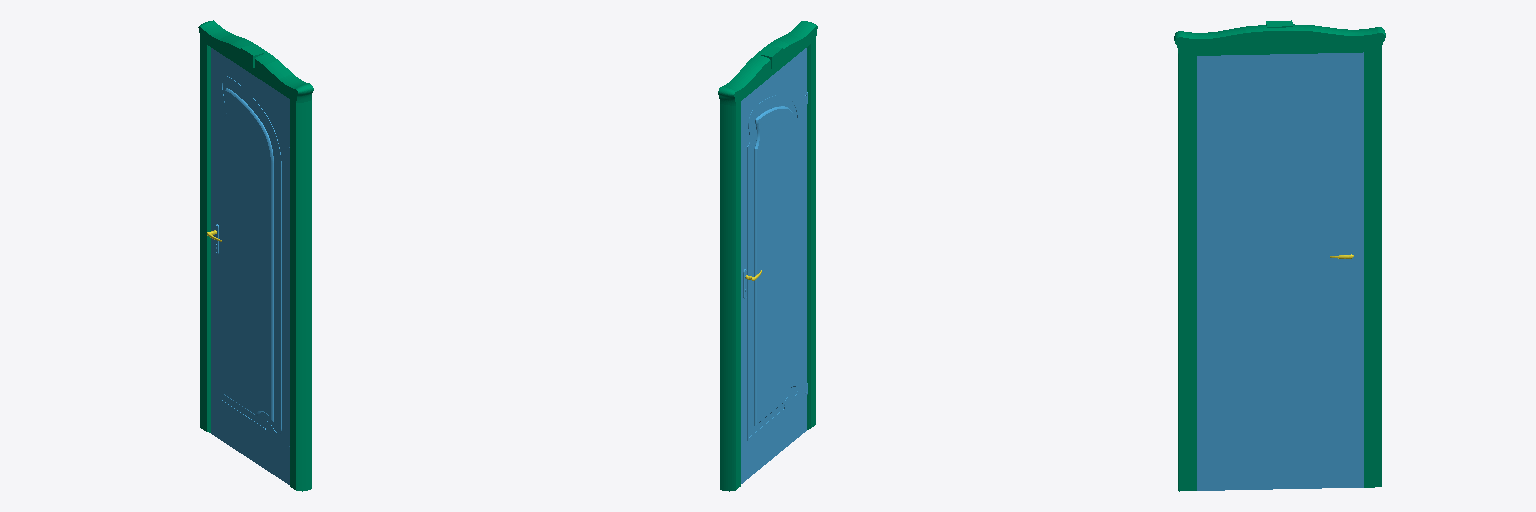
The robot description file, URDF, robot "partnet_cbd46097a3be604ce3f7a74e12a274ef":
<?xml version="1.0" ?>
<robot name="partnet_cbd46097a3be604ce3f7a74e12a274ef">
	<link name="base"/>
	<link name="link_0">
		<visual name="hinge-12">
			<origin xyz="-0.30969845503568644 0 0.024119412004947646"/>
			<geometry>
				<mesh filename="textured_objs/original-45.obj" scale="1.4 1.4 1.4"/>
			</geometry>
		</visual>
		<visual name="hinge-12">
			<origin xyz="-0.30969845503568644 0 0.024119412004947646"/>
			<geometry>
				<mesh filename="textured_objs/original-48.obj" scale="1.4 1.4 1.4"/>
			</geometry>
		</visual>
		<visual name="hinge-12">
			<origin xyz="-0.30969845503568644 0 0.024119412004947646"/>
			<geometry>
				<mesh filename="textured_objs/original-46.obj" scale="1.4 1.4 1.4"/>
			</geometry>
		</visual>
		<visual name="hinge-13">
			<origin xyz="-0.30969845503568644 0 0.024119412004947646"/>
			<geometry>
				<mesh filename="textured_objs/original-43.obj" scale="1.4 1.4 1.4"/>
			</geometry>
		</visual>
		<visual name="hinge-13">
			<origin xyz="-0.30969845503568644 0 0.024119412004947646"/>
			<geometry>
				<mesh filename="textured_objs/original-42.obj" scale="1.4 1.4 1.4"/>
			</geometry>
		</visual>
		<visual name="hinge-13">
			<origin xyz="-0.30969845503568644 0 0.024119412004947646"/>
			<geometry>
				<mesh filename="textured_objs/original-41.obj" scale="1.4 1.4 1.4"/>
			</geometry>
		</visual>
		<visual name="hinge-13">
			<origin xyz="-0.30969845503568644 0 0.024119412004947646"/>
			<geometry>
				<mesh filename="textured_objs/original-38.obj" scale="1.4 1.4 1.4"/>
			</geometry>
		</visual>
		<visual name="hinge-13">
			<origin xyz="-0.30969845503568644 0 0.024119412004947646"/>
			<geometry>
				<mesh filename="textured_objs/original-39.obj" scale="1.4 1.4 1.4"/>
			</geometry>
		</visual>
		<visual name="surface_board-7">
			<origin xyz="-0.30969845503568644 0 0.024119412004947646"/>
			<geometry>
				<mesh filename="textured_objs/original-8.obj" scale="1.4 1.4 1.4"/>
			</geometry>
		</visual>
		<visual name="surface_board-7">
			<origin xyz="-0.30969845503568644 0 0.024119412004947646"/>
			<geometry>
				<mesh filename="textured_objs/original-9.obj" scale="1.4 1.4 1.4"/>
			</geometry>
		</visual>
		<visual name="surface_board-7">
			<origin xyz="-0.30969845503568644 0 0.024119412004947646"/>
			<geometry>
				<mesh filename="textured_objs/original-5.obj" scale="1.4 1.4 1.4"/>
			</geometry>
		</visual>
		<visual name="glass-8">
			<origin xyz="-0.30969845503568644 0 0.024119412004947646"/>
			<geometry>
				<mesh filename="textured_objs/original-6.obj" scale="1.4 1.4 1.4"/>
			</geometry>
		</visual>
		<visual name="fixed_part-5">
			<origin xyz="-0.30969845503568644 0 0.024119412004947646"/>
			<geometry>
				<mesh filename="textured_objs/original-24.obj" scale="1.4 1.4 1.4"/>
			</geometry>
		</visual>
		<visual name="fixed_part-5">
			<origin xyz="-0.30969845503568644 0 0.024119412004947646"/>
			<geometry>
				<mesh filename="textured_objs/original-13.obj" scale="1.4 1.4 1.4"/>
			</geometry>
		</visual>
		<visual name="fixed_part-5">
			<origin xyz="-0.30969845503568644 0 0.024119412004947646"/>
			<geometry>
				<mesh filename="textured_objs/original-14.obj" scale="1.4 1.4 1.4"/>
			</geometry>
		</visual>
		<visual name="fixed_part-5">
			<origin xyz="-0.30969845503568644 0 0.024119412004947646"/>
			<geometry>
				<mesh filename="textured_objs/original-11.obj" scale="1.4 1.4 1.4"/>
			</geometry>
		</visual>
		<visual name="fixed_part-5">
			<origin xyz="-0.30969845503568644 0 0.024119412004947646"/>
			<geometry>
				<mesh filename="textured_objs/original-26.obj" scale="1.4 1.4 1.4"/>
			</geometry>
		</visual>
		<visual name="fixed_part-5">
			<origin xyz="-0.30969845503568644 0 0.024119412004947646"/>
			<geometry>
				<mesh filename="textured_objs/original-22.obj" scale="1.4 1.4 1.4"/>
			</geometry>
		</visual>
		<visual name="fixed_part-5">
			<origin xyz="-0.30969845503568644 0 0.024119412004947646"/>
			<geometry>
				<mesh filename="textured_objs/original-12.obj" scale="1.4 1.4 1.4"/>
			</geometry>
		</visual>
		<visual name="fixed_part-5">
			<origin xyz="-0.30969845503568644 0 0.024119412004947646"/>
			<geometry>
				<mesh filename="textured_objs/original-21.obj" scale="1.4 1.4 1.4"/>
			</geometry>
		</visual>
		<visual name="fixed_part-10">
			<origin xyz="-0.30969845503568644 0 0.024119412004947646"/>
			<geometry>
				<mesh filename="textured_objs/original-15.obj" scale="1.4 1.4 1.4"/>
			</geometry>
		</visual>
		<visual name="fixed_part-10">
			<origin xyz="-0.30969845503568644 0 0.024119412004947646"/>
			<geometry>
				<mesh filename="textured_objs/original-18.obj" scale="1.4 1.4 1.4"/>
			</geometry>
		</visual>
		<visual name="fixed_part-10">
			<origin xyz="-0.30969845503568644 0 0.024119412004947646"/>
			<geometry>
				<mesh filename="textured_objs/original-17.obj" scale="1.4 1.4 1.4"/>
			</geometry>
		</visual>
		<visual name="fixed_part-10">
			<origin xyz="-0.30969845503568644 0 0.024119412004947646"/>
			<geometry>
				<mesh filename="textured_objs/original-16.obj" scale="1.4 1.4 1.4"/>
			</geometry>
		</visual>
		<visual name="fixed_part-10">
			<origin xyz="-0.30969845503568644 0 0.024119412004947646"/>
			<geometry>
				<mesh filename="textured_objs/original-35.obj" scale="1.4 1.4 1.4"/>
			</geometry>
		</visual>
		<visual name="fixed_part-10">
			<origin xyz="-0.30969845503568644 0 0.024119412004947646"/>
			<geometry>
				<mesh filename="textured_objs/original-31.obj" scale="1.4 1.4 1.4"/>
			</geometry>
		</visual>
		<visual name="fixed_part-10">
			<origin xyz="-0.30969845503568644 0 0.024119412004947646"/>
			<geometry>
				<mesh filename="textured_objs/original-33.obj" scale="1.4 1.4 1.4"/>
			</geometry>
		</visual>
		<visual name="fixed_part-10">
			<origin xyz="-0.30969845503568644 0 0.024119412004947646"/>
			<geometry>
				<mesh filename="textured_objs/original-30.obj" scale="1.4 1.4 1.4"/>
			</geometry>
		</visual>
		<collision>
			<origin xyz="-0.30969845503568644 0 0.024119412004947646"/>
			<geometry>
				<mesh filename="textured_objs/original-45.obj" scale="1.4 1.4 1.4"/>
			</geometry>
		</collision>
		<collision>
			<origin xyz="-0.30969845503568644 0 0.024119412004947646"/>
			<geometry>
				<mesh filename="textured_objs/original-48.obj" scale="1.4 1.4 1.4"/>
			</geometry>
		</collision>
		<collision>
			<origin xyz="-0.30969845503568644 0 0.024119412004947646"/>
			<geometry>
				<mesh filename="textured_objs/original-46.obj" scale="1.4 1.4 1.4"/>
			</geometry>
		</collision>
		<collision>
			<origin xyz="-0.30969845503568644 0 0.024119412004947646"/>
			<geometry>
				<mesh filename="textured_objs/original-43.obj" scale="1.4 1.4 1.4"/>
			</geometry>
		</collision>
		<collision>
			<origin xyz="-0.30969845503568644 0 0.024119412004947646"/>
			<geometry>
				<mesh filename="textured_objs/original-42.obj" scale="1.4 1.4 1.4"/>
			</geometry>
		</collision>
		<collision>
			<origin xyz="-0.30969845503568644 0 0.024119412004947646"/>
			<geometry>
				<mesh filename="textured_objs/original-41.obj" scale="1.4 1.4 1.4"/>
			</geometry>
		</collision>
		<collision>
			<origin xyz="-0.30969845503568644 0 0.024119412004947646"/>
			<geometry>
				<mesh filename="textured_objs/original-38.obj" scale="1.4 1.4 1.4"/>
			</geometry>
		</collision>
		<collision>
			<origin xyz="-0.30969845503568644 0 0.024119412004947646"/>
			<geometry>
				<mesh filename="textured_objs/original-39.obj" scale="1.4 1.4 1.4"/>
			</geometry>
		</collision>
		<collision>
			<origin xyz="-0.30969845503568644 0 0.024119412004947646"/>
			<geometry>
				<mesh filename="textured_objs/original-8.obj" scale="1.4 1.4 1.4"/>
			</geometry>
		</collision>
		<collision>
			<origin xyz="-0.30969845503568644 0 0.024119412004947646"/>
			<geometry>
				<mesh filename="textured_objs/original-9.obj" scale="1.4 1.4 1.4"/>
			</geometry>
		</collision>
		<collision>
			<origin xyz="-0.30969845503568644 0 0.024119412004947646"/>
			<geometry>
				<mesh filename="textured_objs/original-5.obj" scale="1.4 1.4 1.4"/>
			</geometry>
		</collision>
		<collision>
			<origin xyz="-0.30969845503568644 0 0.024119412004947646"/>
			<geometry>
				<mesh filename="textured_objs/original-6.obj" scale="1.4 1.4 1.4"/>
			</geometry>
		</collision>
		<collision>
			<origin xyz="-0.30969845503568644 0 0.024119412004947646"/>
			<geometry>
				<mesh filename="textured_objs/original-24.obj" scale="1.4 1.4 1.4"/>
			</geometry>
		</collision>
		<collision>
			<origin xyz="-0.30969845503568644 0 0.024119412004947646"/>
			<geometry>
				<mesh filename="textured_objs/original-13.obj" scale="1.4 1.4 1.4"/>
			</geometry>
		</collision>
		<collision>
			<origin xyz="-0.30969845503568644 0 0.024119412004947646"/>
			<geometry>
				<mesh filename="textured_objs/original-14.obj" scale="1.4 1.4 1.4"/>
			</geometry>
		</collision>
		<collision>
			<origin xyz="-0.30969845503568644 0 0.024119412004947646"/>
			<geometry>
				<mesh filename="textured_objs/original-11.obj" scale="1.4 1.4 1.4"/>
			</geometry>
		</collision>
		<collision>
			<origin xyz="-0.30969845503568644 0 0.024119412004947646"/>
			<geometry>
				<mesh filename="textured_objs/original-26.obj" scale="1.4 1.4 1.4"/>
			</geometry>
		</collision>
		<collision>
			<origin xyz="-0.30969845503568644 0 0.024119412004947646"/>
			<geometry>
				<mesh filename="textured_objs/original-22.obj" scale="1.4 1.4 1.4"/>
			</geometry>
		</collision>
		<collision>
			<origin xyz="-0.30969845503568644 0 0.024119412004947646"/>
			<geometry>
				<mesh filename="textured_objs/original-12.obj" scale="1.4 1.4 1.4"/>
			</geometry>
		</collision>
		<collision>
			<origin xyz="-0.30969845503568644 0 0.024119412004947646"/>
			<geometry>
				<mesh filename="textured_objs/original-21.obj" scale="1.4 1.4 1.4"/>
			</geometry>
		</collision>
		<collision>
			<origin xyz="-0.30969845503568644 0 0.024119412004947646"/>
			<geometry>
				<mesh filename="textured_objs/original-15.obj" scale="1.4 1.4 1.4"/>
			</geometry>
		</collision>
		<collision>
			<origin xyz="-0.30969845503568644 0 0.024119412004947646"/>
			<geometry>
				<mesh filename="textured_objs/original-18.obj" scale="1.4 1.4 1.4"/>
			</geometry>
		</collision>
		<collision>
			<origin xyz="-0.30969845503568644 0 0.024119412004947646"/>
			<geometry>
				<mesh filename="textured_objs/original-17.obj" scale="1.4 1.4 1.4"/>
			</geometry>
		</collision>
		<collision>
			<origin xyz="-0.30969845503568644 0 0.024119412004947646"/>
			<geometry>
				<mesh filename="textured_objs/original-16.obj" scale="1.4 1.4 1.4"/>
			</geometry>
		</collision>
		<collision>
			<origin xyz="-0.30969845503568644 0 0.024119412004947646"/>
			<geometry>
				<mesh filename="textured_objs/original-35.obj" scale="1.4 1.4 1.4"/>
			</geometry>
		</collision>
		<collision>
			<origin xyz="-0.30969845503568644 0 0.024119412004947646"/>
			<geometry>
				<mesh filename="textured_objs/original-31.obj" scale="1.4 1.4 1.4"/>
			</geometry>
		</collision>
		<collision>
			<origin xyz="-0.30969845503568644 0 0.024119412004947646"/>
			<geometry>
				<mesh filename="textured_objs/original-33.obj" scale="1.4 1.4 1.4"/>
			</geometry>
		</collision>
		<collision>
			<origin xyz="-0.30969845503568644 0 0.024119412004947646"/>
			<geometry>
				<mesh filename="textured_objs/original-30.obj" scale="1.4 1.4 1.4"/>
			</geometry>
		</collision>
	</link>
	<joint name="joint_0" type="fixed">
		<origin xyz="0.30969845503568644 0 -0.024119412004947646"/>
		<axis xyz="0 1 0"/>
		<child link="link_0"/>
		<parent link="link_1"/>
		<limit lower="0.0" upper="1.5707963267948966"/>
	</joint>
	<link name="link_1">
		<visual name="outside_frame-1">
			<origin xyz="0 0 0"/>
			<geometry>
				<mesh filename="textured_objs/original-4.obj" scale="1.4 1.4 1.4"/>
			</geometry>
		</visual>
		<visual name="other_leaf-15">
			<origin xyz="0 0 0"/>
			<geometry>
				<mesh filename="textured_objs/original-3.obj" scale="1.4 1.4 1.4"/>
			</geometry>
		</visual>
		<visual name="other_leaf-15">
			<origin xyz="0 0 0"/>
			<geometry>
				<mesh filename="textured_objs/original-2.obj" scale="1.4 1.4 1.4"/>
			</geometry>
		</visual>
		<collision>
			<origin xyz="0 0 0"/>
			<geometry>
				<mesh filename="textured_objs/original-4.obj" scale="1.4 1.4 1.4"/>
			</geometry>
		</collision>
		<collision>
			<origin xyz="0 0 0"/>
			<geometry>
				<mesh filename="textured_objs/original-3.obj" scale="1.4 1.4 1.4"/>
			</geometry>
		</collision>
		<collision>
			<origin xyz="0 0 0"/>
			<geometry>
				<mesh filename="textured_objs/original-2.obj" scale="1.4 1.4 1.4"/>
			</geometry>
		</collision>
	</link>
	<joint name="joint_1" type="fixed">
		<origin rpy="1.570796326794897 0 -1.570796326794897" xyz="0 0 0"/>
		<child link="link_1"/>
		<parent link="base"/>
	</joint>
	<link name="link_2">
		<visual name="movable_part-6">
			<origin xyz="0.27921457650139947 -0.008014151086460485 0"/>
			<geometry>
				<mesh filename="textured_objs/original-20.obj" scale="1.4 1.4 1.4"/>
			</geometry>
		</visual>
		<visual name="movable_part-11">
			<origin xyz="0.27921457650139947 -0.008014151086460485 0"/>
			<geometry>
				<mesh filename="textured_objs/original-29.obj" scale="1.4 1.4 1.4"/>
			</geometry>
		</visual>
		<collision>
			<origin xyz="0.27921457650139947 -0.008014151086460485 0"/>
			<geometry>
				<mesh filename="textured_objs/original-20.obj" scale="1.4 1.4 1.4"/>
			</geometry>
		</collision>
		<collision>
			<origin xyz="0.27921457650139947 -0.008014151086460485 0"/>
			<geometry>
				<mesh filename="textured_objs/original-29.obj" scale="1.4 1.4 1.4"/>
			</geometry>
		</collision>
	</link>
	<joint name="joint_2" type="fixed">
		<origin xyz="-0.5889130315370859 0.008014151086460485 0.024119412004947646"/>
		<axis xyz="0 0 -1"/>
		<child link="link_2"/>
		<parent link="link_0"/>
		<limit lower="-0.0" upper="1.5707963267948966"/>
	</joint>
</robot>

--- Facts derived from the render (not from the file) ---
Views: 3 orthographic renders of the robot side by side, from view 1: azimuth 30°, elevation 25°; view 2: azimuth 150°, elevation 25°; view 3: azimuth 270°, elevation 25°.
Robot: partnet_cbd46097a3be604ce3f7a74e12a274ef — 4 links, 3 joints (3 fixed); root link base; default pose: every joint at zero.
Links seen in each view (by area): view 1: link_0, link_1; view 2: link_0, link_1; view 3: link_0, link_1.
Link boxes in pixels (x1=…): link_0: x1=211, y1=48, x2=289, y2=484; link_1: x1=198, y1=20, x2=313, y2=491; link_0: x1=741, y1=48, x2=807, y2=483; link_1: x1=718, y1=21, x2=817, y2=491; link_0: x1=1197, y1=52, x2=1363, y2=490; link_1: x1=1174, y1=20, x2=1385, y2=491.
Size in the robot's own frame: 0.1963 by 1.11 by 2.65 metres.
33 mesh visuals loaded from 33 distinct referenced files (33 OBJ).